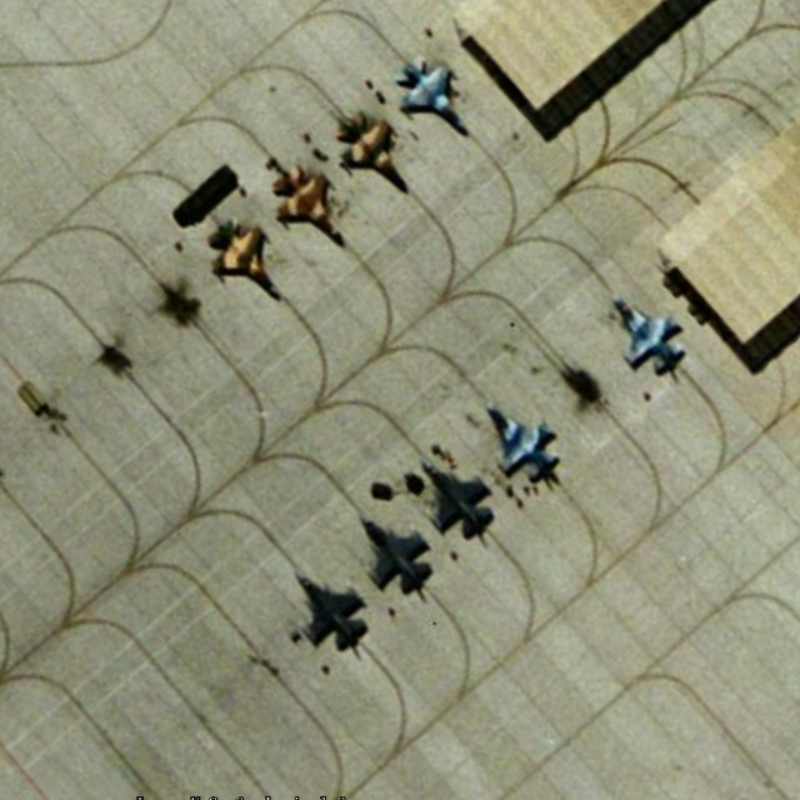A5: (604, 283, 697, 383), (350, 510, 448, 602), (269, 158, 354, 257), (481, 394, 570, 488), (390, 47, 477, 143), (286, 565, 378, 655), (415, 449, 502, 544), (333, 107, 416, 204), (204, 222, 287, 310)
